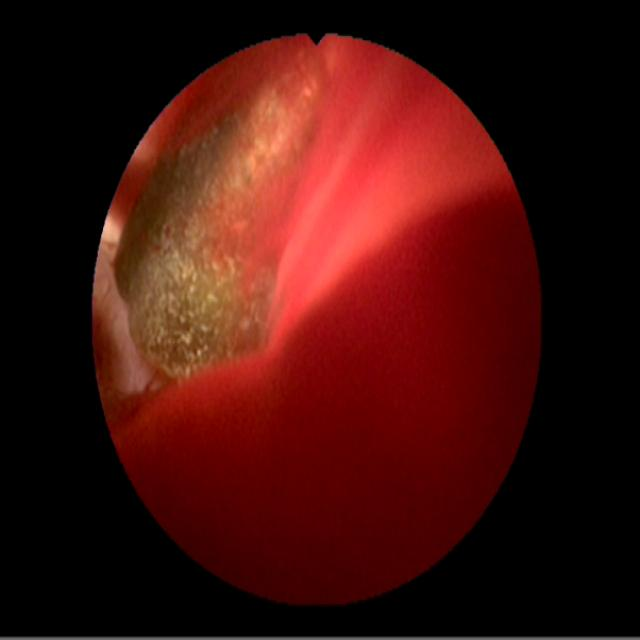stone: (116, 58, 328, 378)
tissue: (98, 44, 533, 593)
